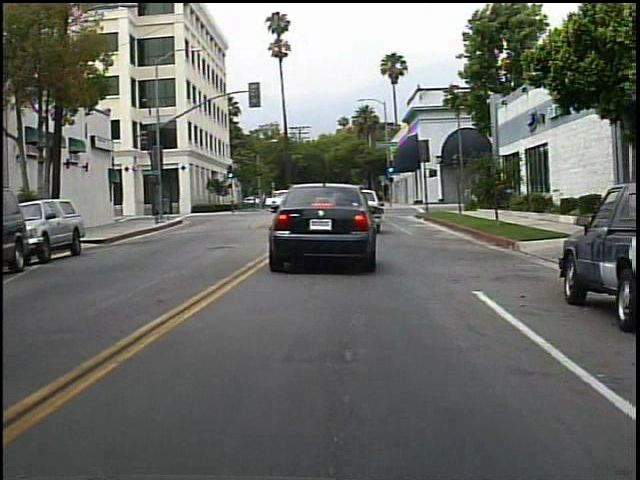person: (286, 184, 312, 221)
